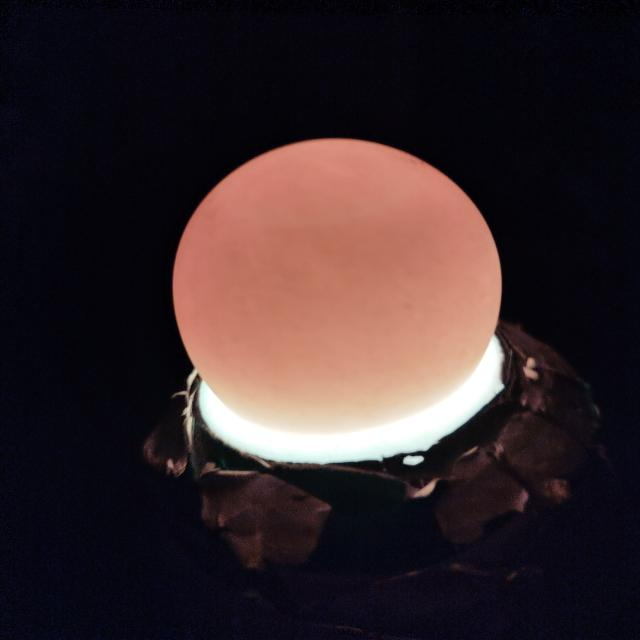Camara de Ar: (221, 140, 438, 221)
